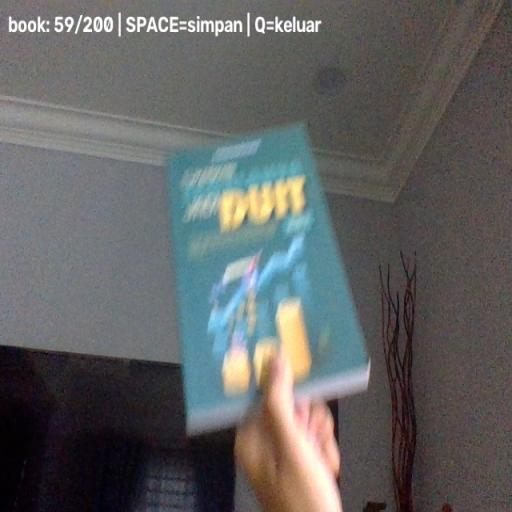Book: (168, 122, 371, 438)
